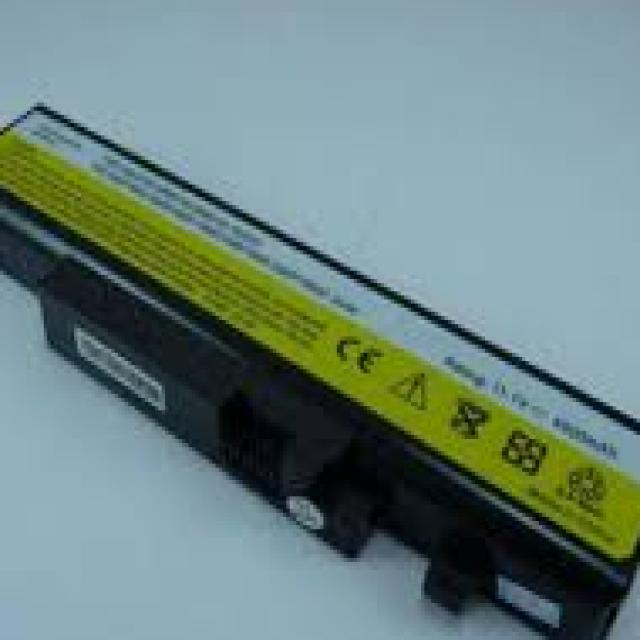organic: (4, 102, 639, 630)
